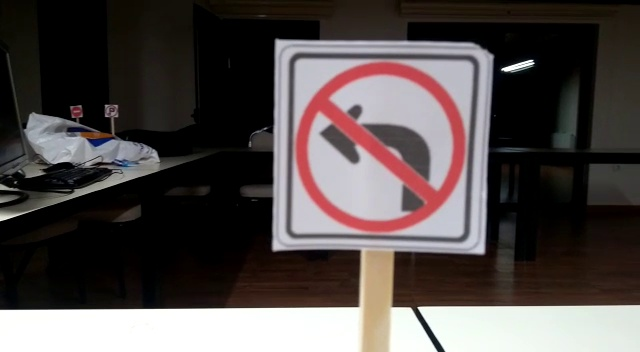sola_donulmez: (275, 51, 476, 247)
